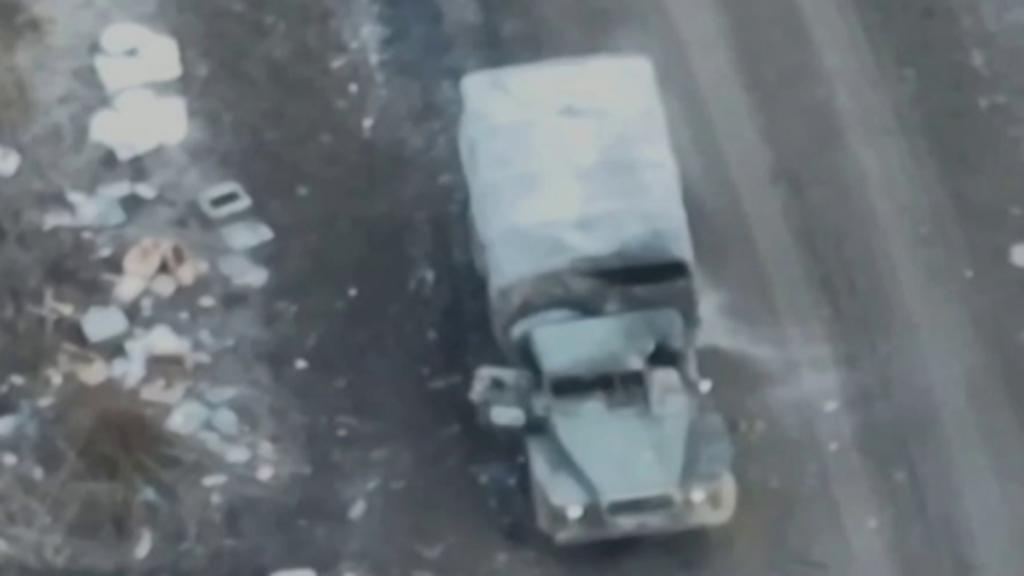TRUCK: (454, 51, 738, 546)
